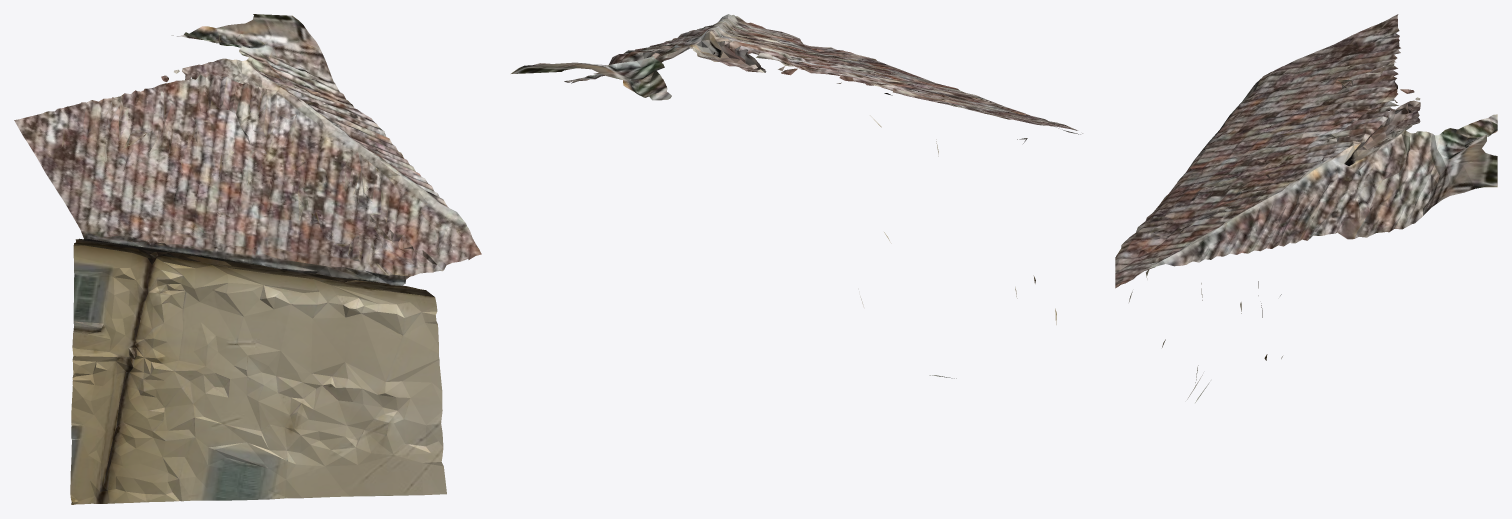
The picture shows the model from 3 angles, left to right: view 1: azimuth 30°, elevation 25°; view 2: azimuth 150°, elevation 25°; view 3: azimuth 270°, elevation 25°; orthographic projection. The views are drawn at different scales.
Bounding box in the file's own units: 6.7 × 6.7 × 6.7.
Materials: 4 (4 with a texture image).
